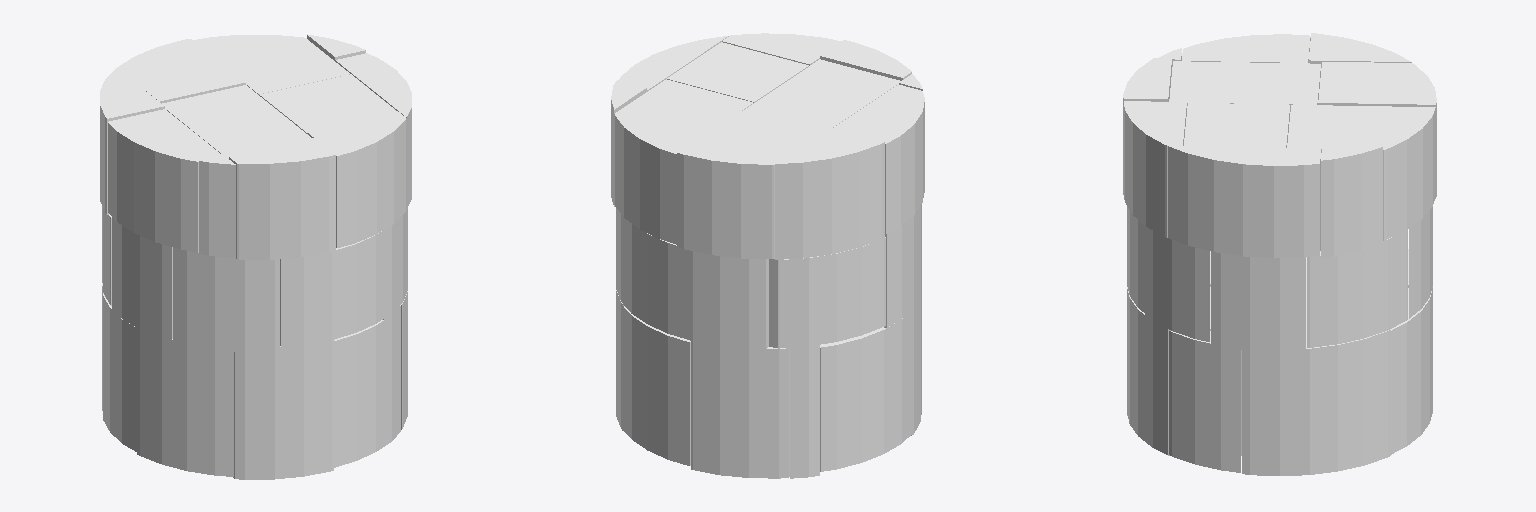
The model's file is stone_pillar_section.obj.
The picture shows the model from 3 angles: view 1: azimuth 30°, elevation 25°; view 2: azimuth 150°, elevation 25°; view 3: azimuth 270°, elevation 25°; orthographic projection.
Parts seen in each view (by area): view 1: obj1; view 2: obj1; view 3: obj1.
Boxes of the visible parts, box(x1,y1,x2,y2) form: obj1: box(100, 34, 411, 479); obj1: box(611, 33, 924, 478); obj1: box(1123, 33, 1436, 475).
Bounding box in the file's own units: 1418 × 1586 × 1418.